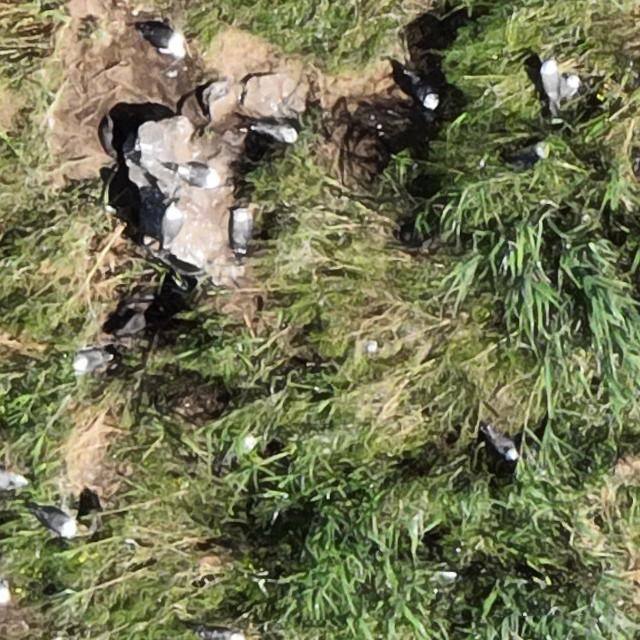umineko: (145, 25, 186, 60), (161, 202, 183, 248), (408, 75, 438, 108), (540, 57, 561, 104), (517, 141, 555, 166), (41, 510, 76, 535), (490, 429, 518, 460), (183, 166, 219, 187), (260, 124, 298, 142), (75, 353, 107, 373), (232, 210, 248, 246), (562, 75, 580, 100), (2, 469, 22, 488), (0, 578, 7, 604)
